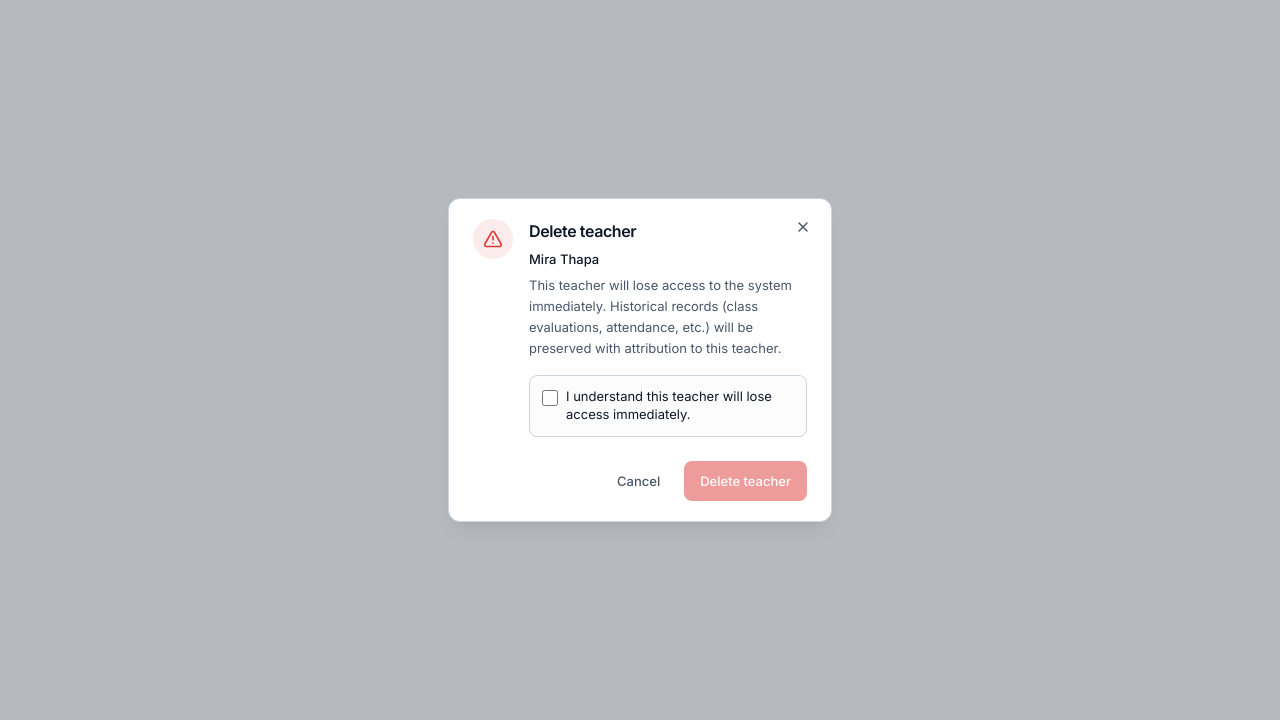
Test: DeleteTeacherDialog (Session 6c.3 — checkbox + dialog-owned mutation) › on 409 active-assignments refusal: shows the backend's verbatim message inside the modal and keeps it open
Click the checkbox at (550,398), box [542, 390, 558, 406]
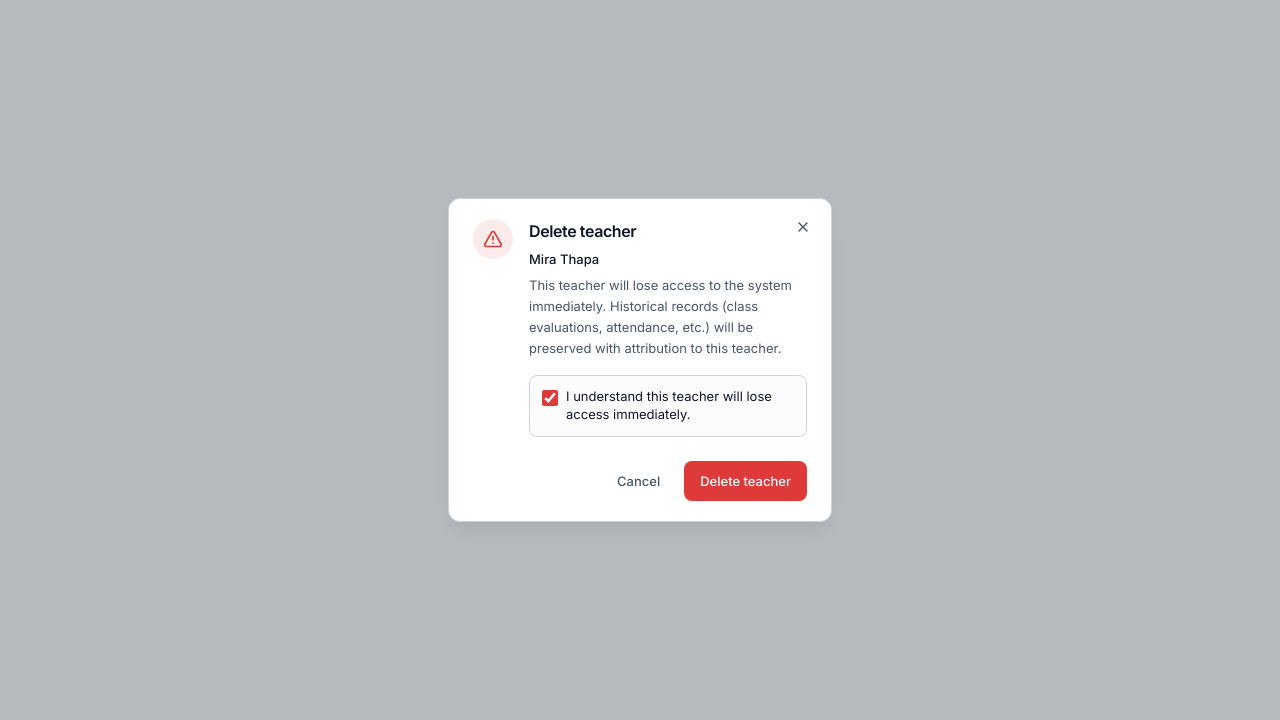
Click the button "Delete teacher" at (746,481), box [684, 461, 807, 501]
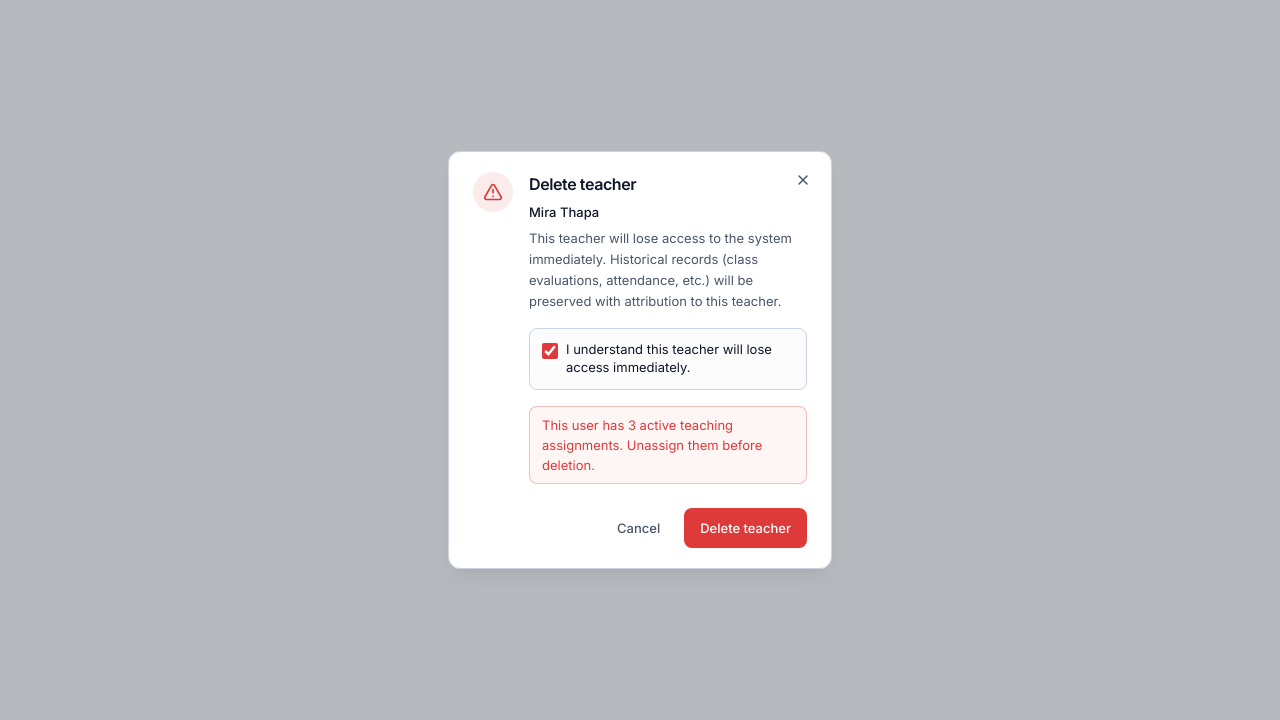
Now the message reads "This user has 3 active teaching assignments. Unassign them before deletion.", box [542, 417, 762, 473]
